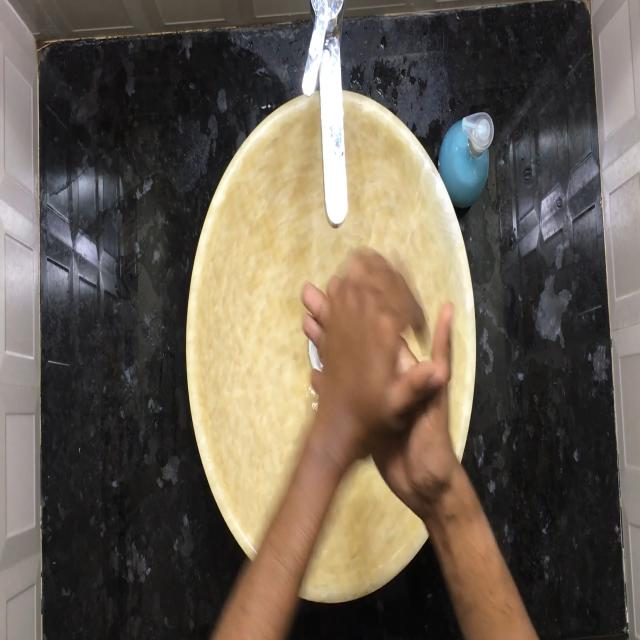step_5: (297, 235, 459, 518)
